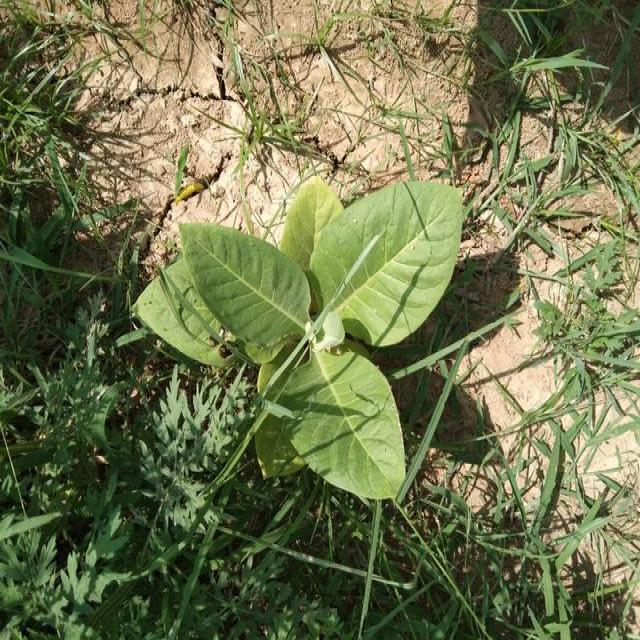crop: (147, 182, 458, 488)
